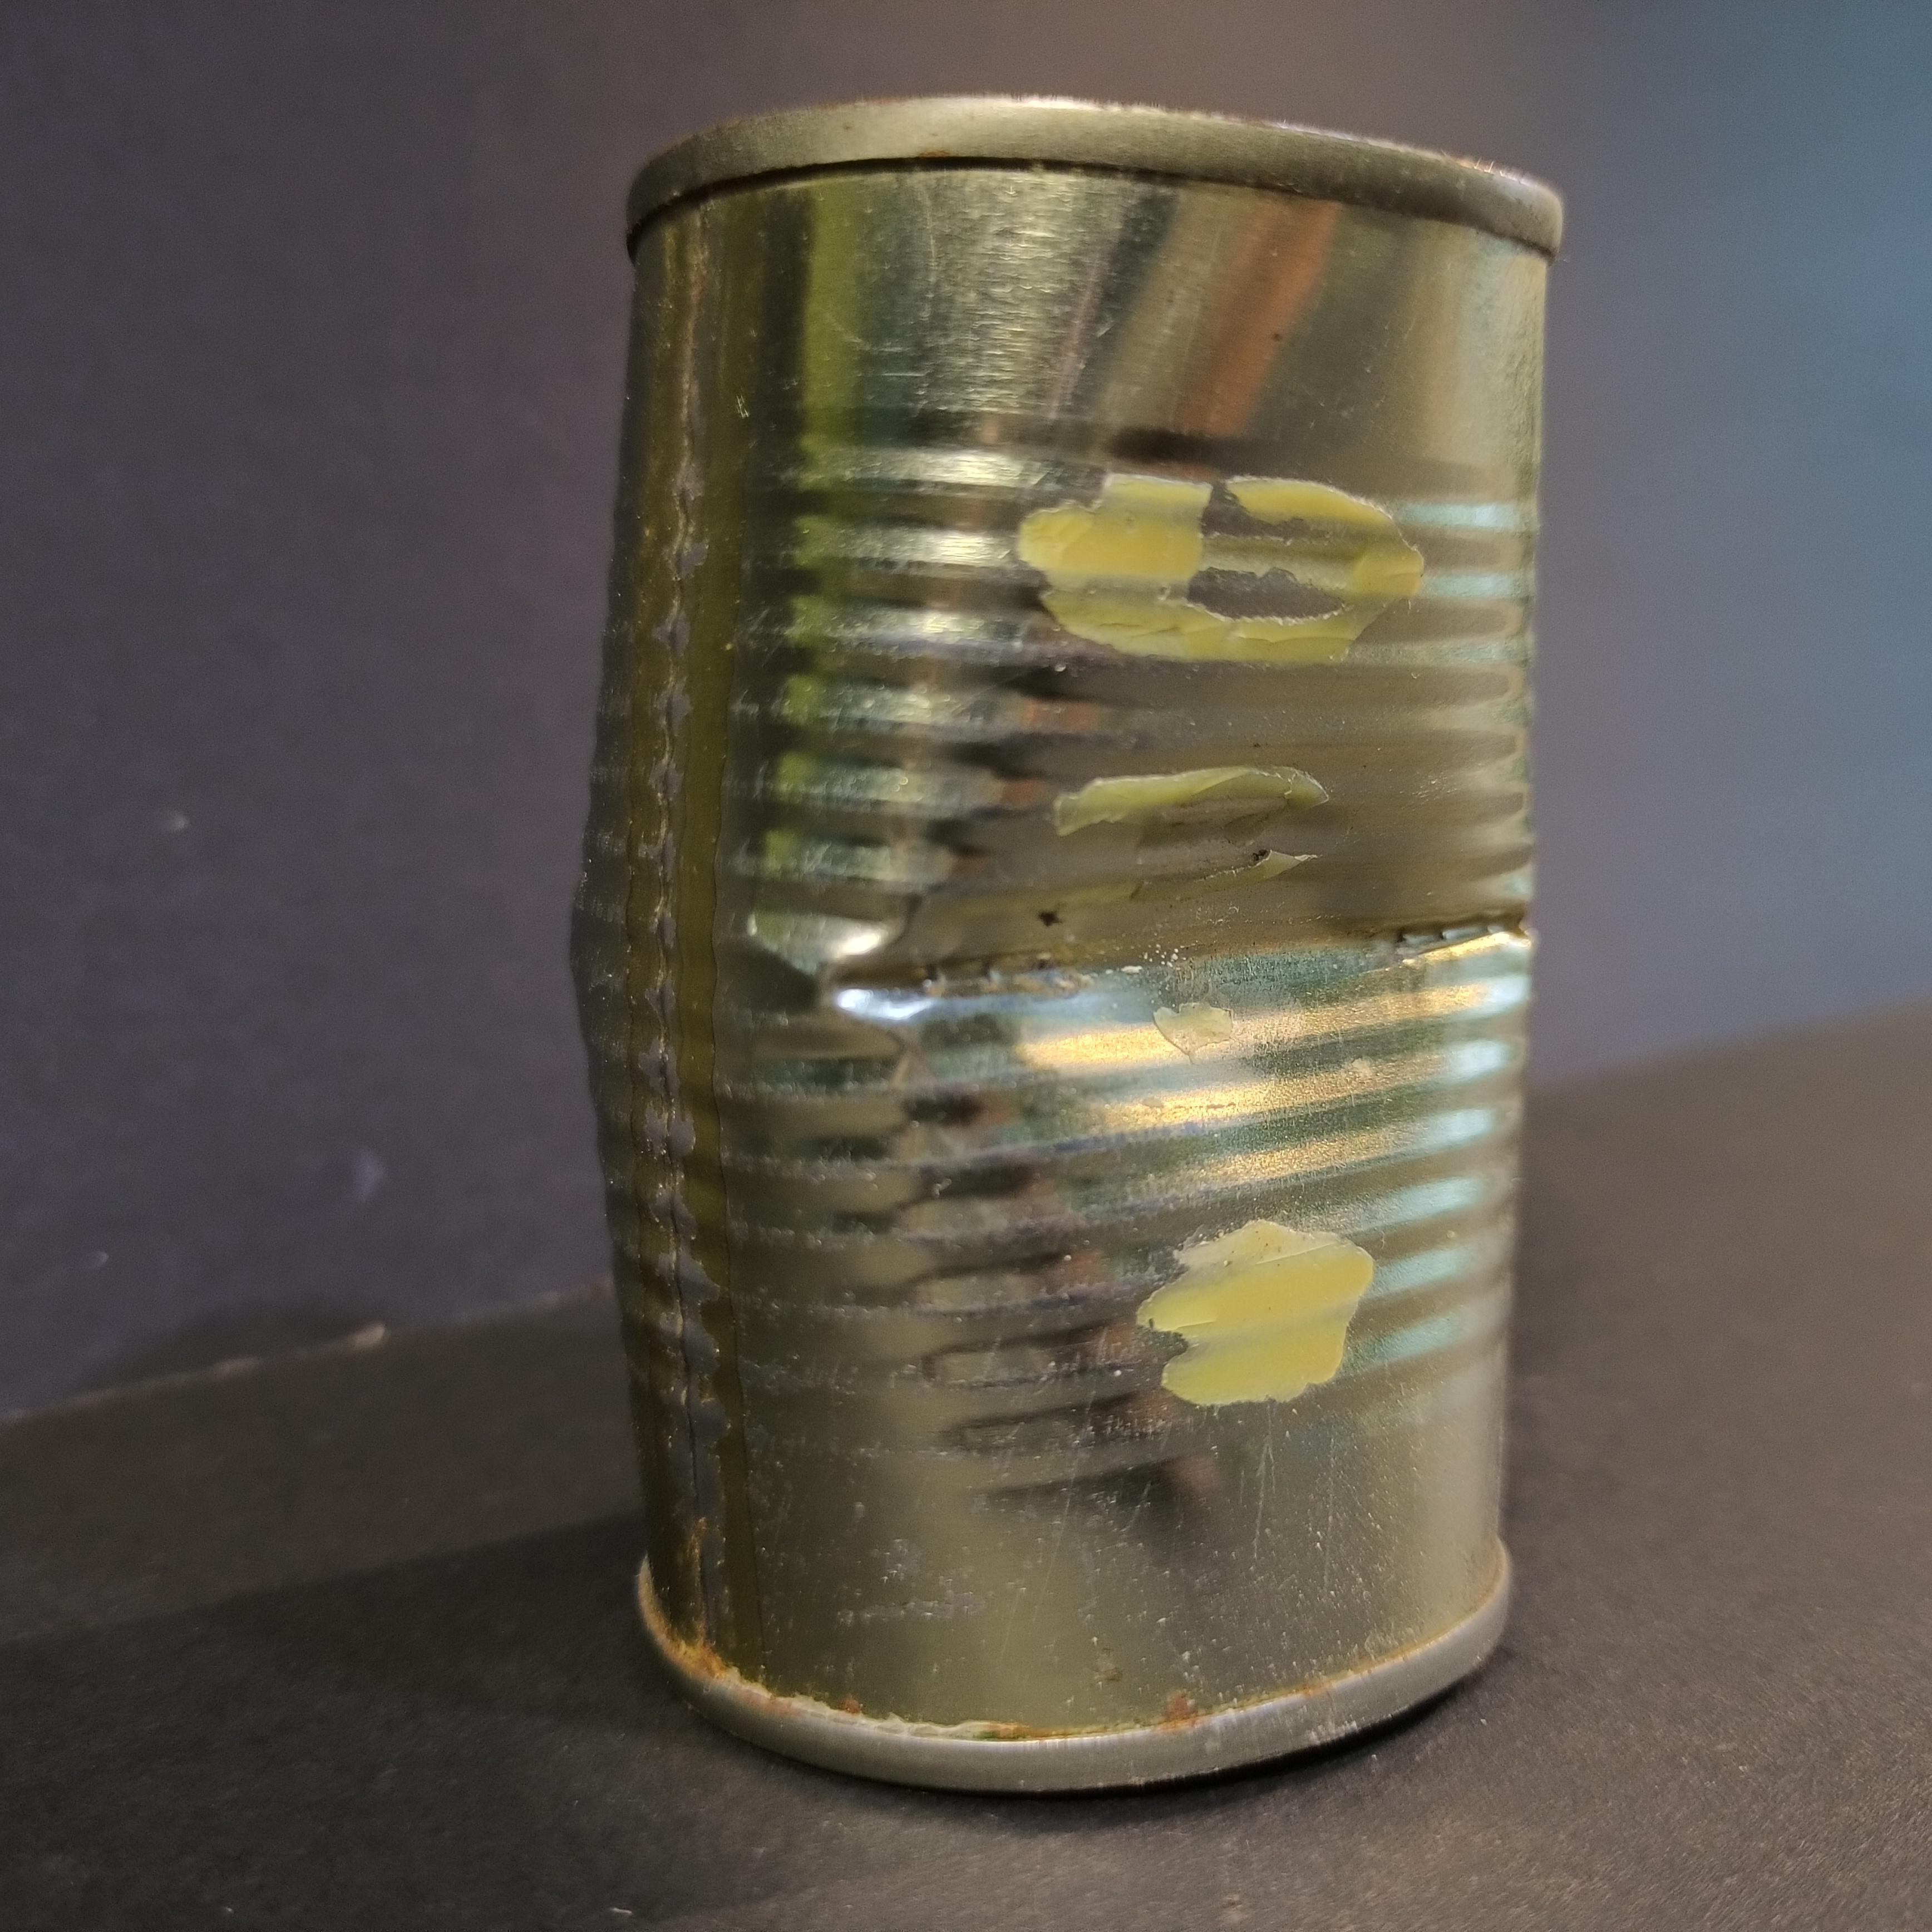Dented: (515, 78, 1599, 1831)
